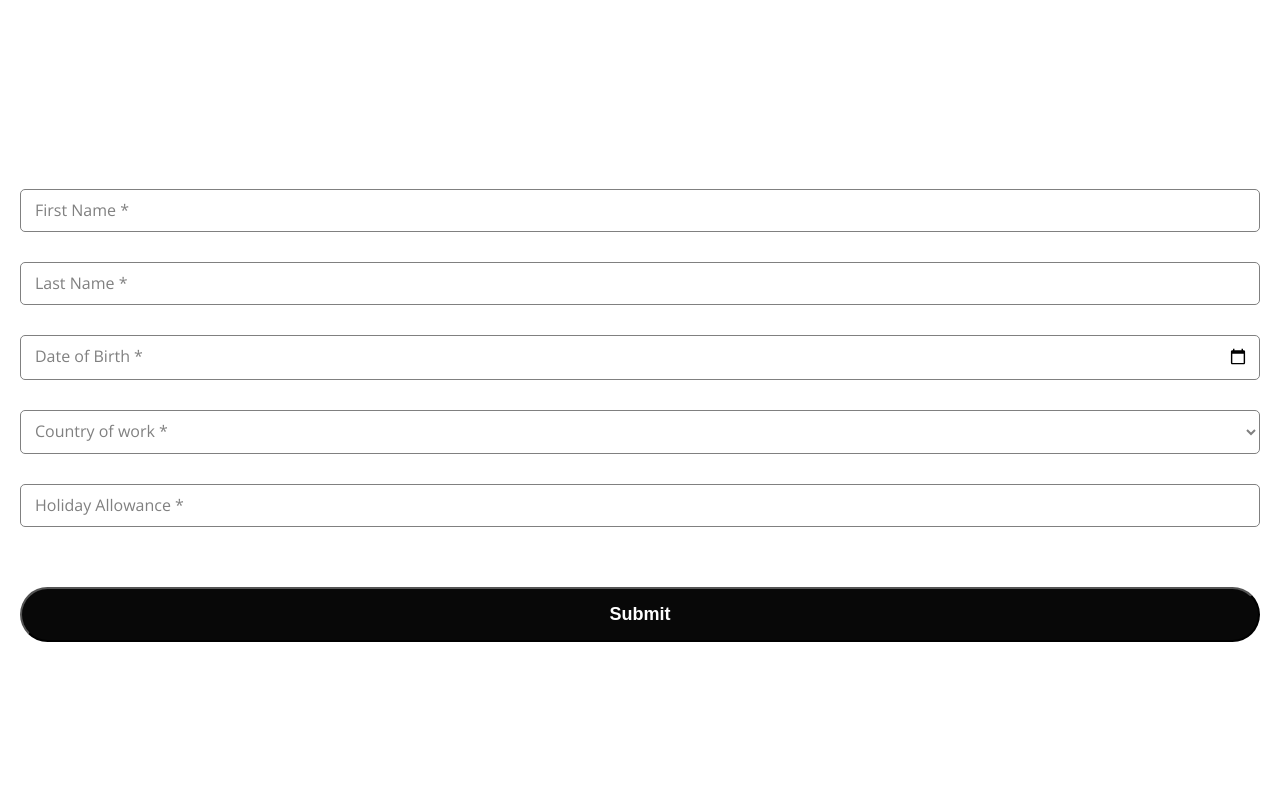
Test: <OnboardingForm /> › when country of work is brazil show 'working hours' and 'number of children'. Also validate holiday allowance
The image size is (1280, 800).
Select "Brazil" in the dropdown with test id "country_of_work" at (640,432), box top-left (20, 410), bottom-right (1260, 454)
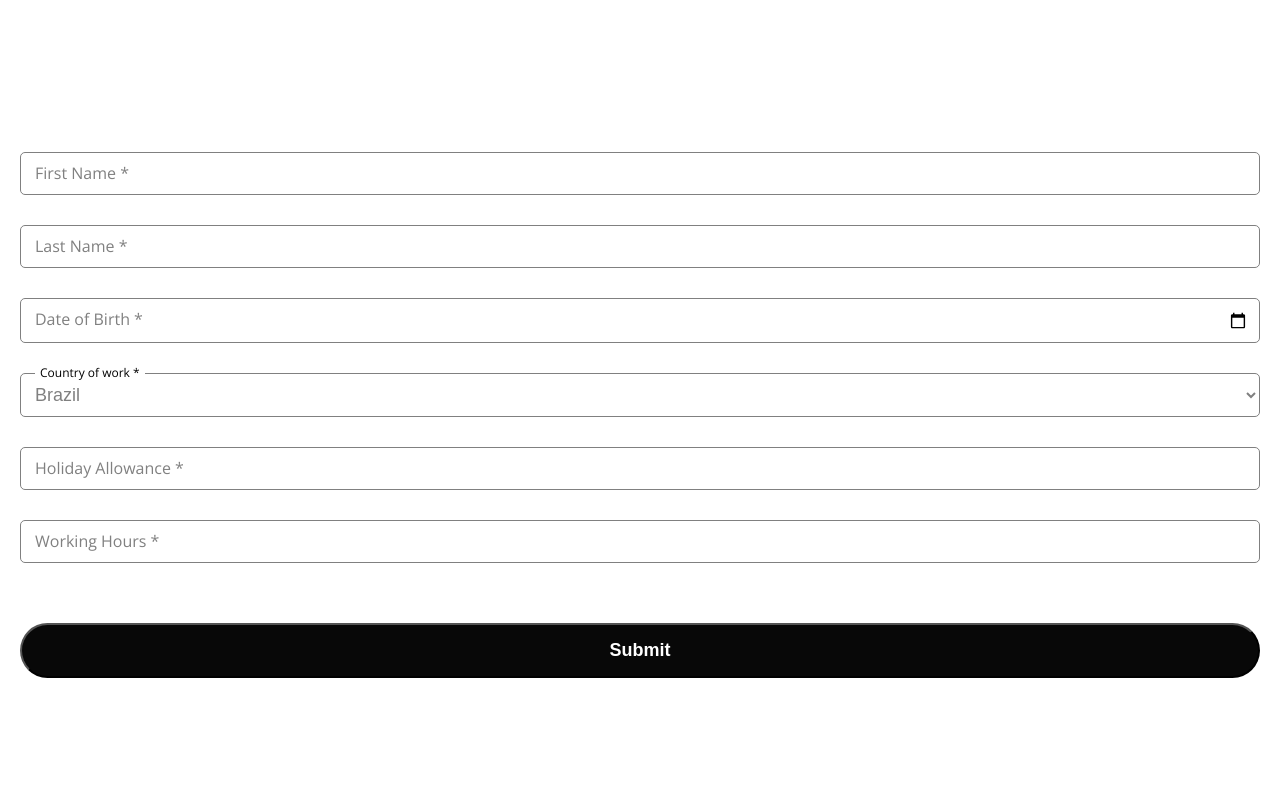
Expected: the number field with test id "working_hours" is shown, top-left (20, 520), bottom-right (1260, 563)
Note: test for when holiday allowance is greater than 40
Type "41" into the number field with test id "holiday_allowance" at (640,468), box top-left (20, 447), bottom-right (1260, 490)
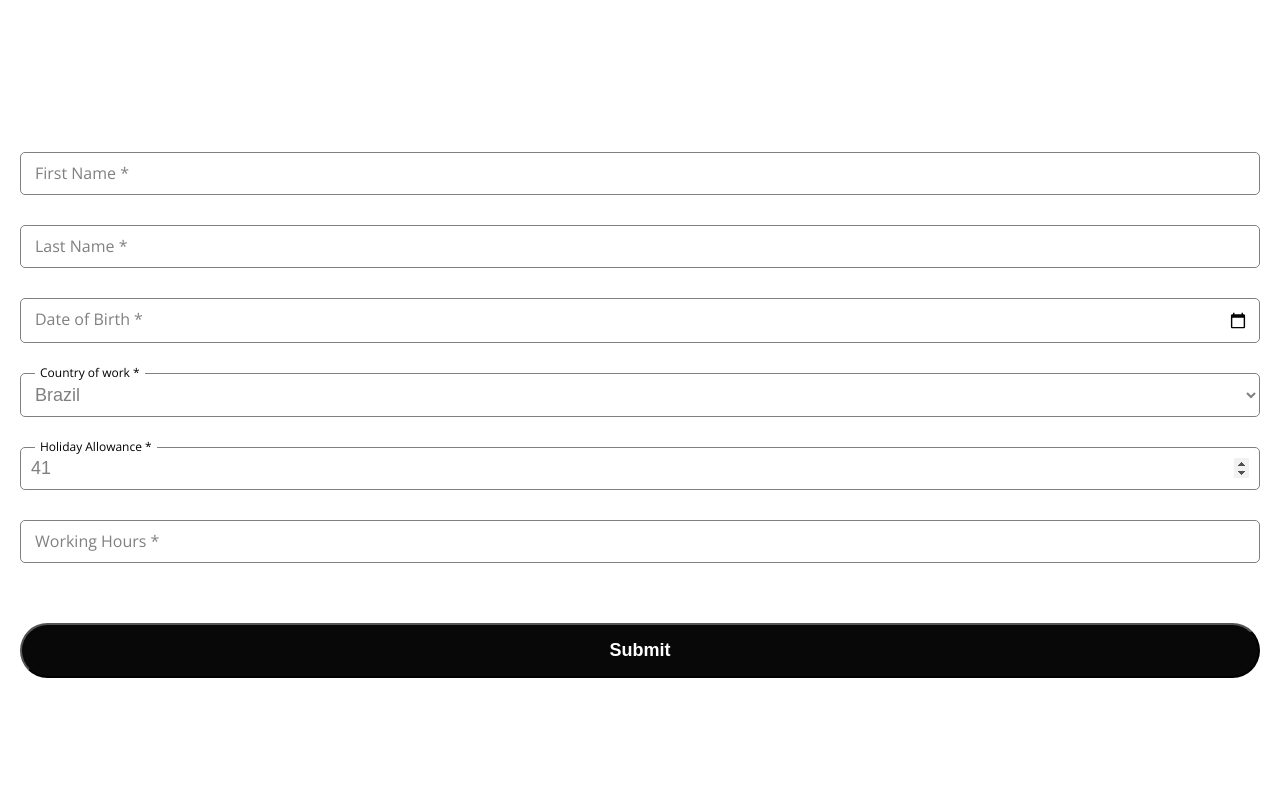
Leave the number field with test id "holiday_allowance", box top-left (20, 447), bottom-right (1260, 490)
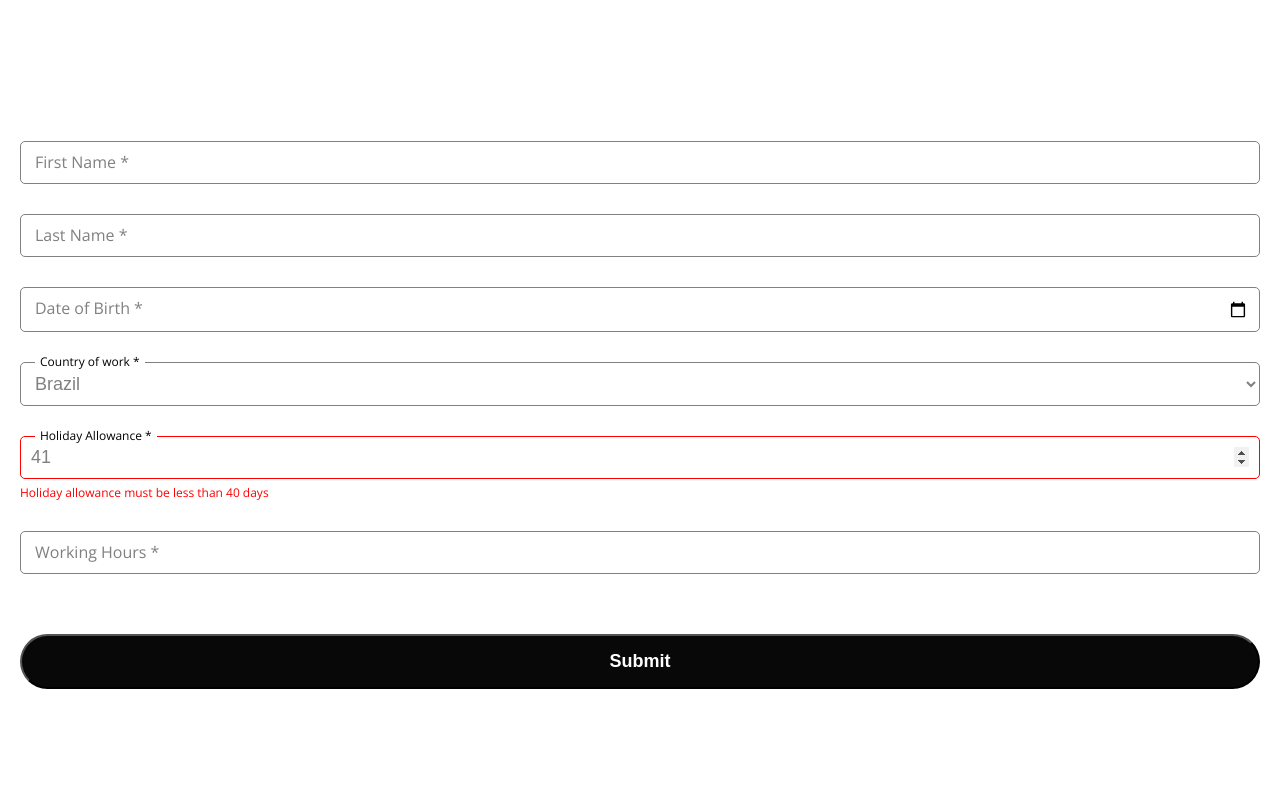
Expected: the text "Holiday allowance must be less than 40 days" is shown, top-left (20, 484), bottom-right (269, 501)
Note: test for when holiday allowance is less than 40
Replace the text in the number field with test id "holiday_allowance" with "39" at (640,458), box top-left (20, 436), bottom-right (1260, 479)
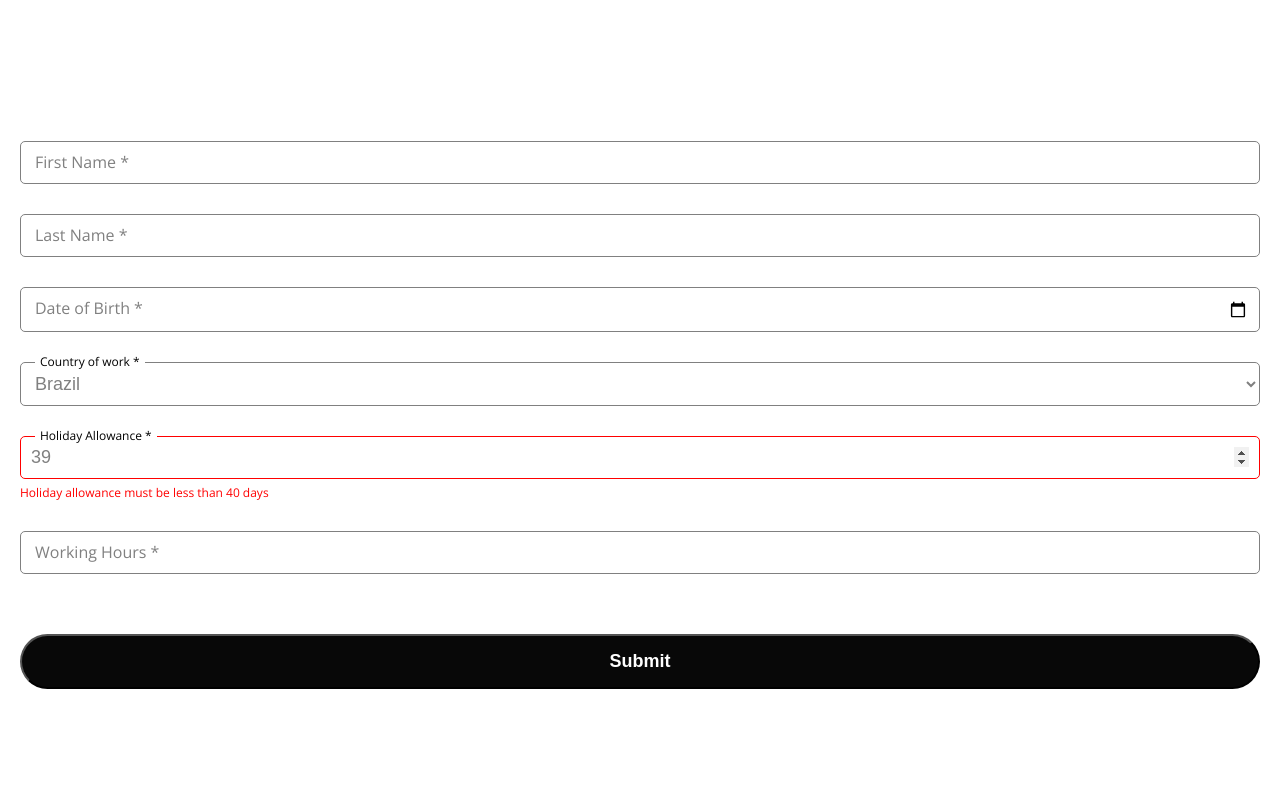
Leave the number field with test id "holiday_allowance", box top-left (20, 436), bottom-right (1260, 479)
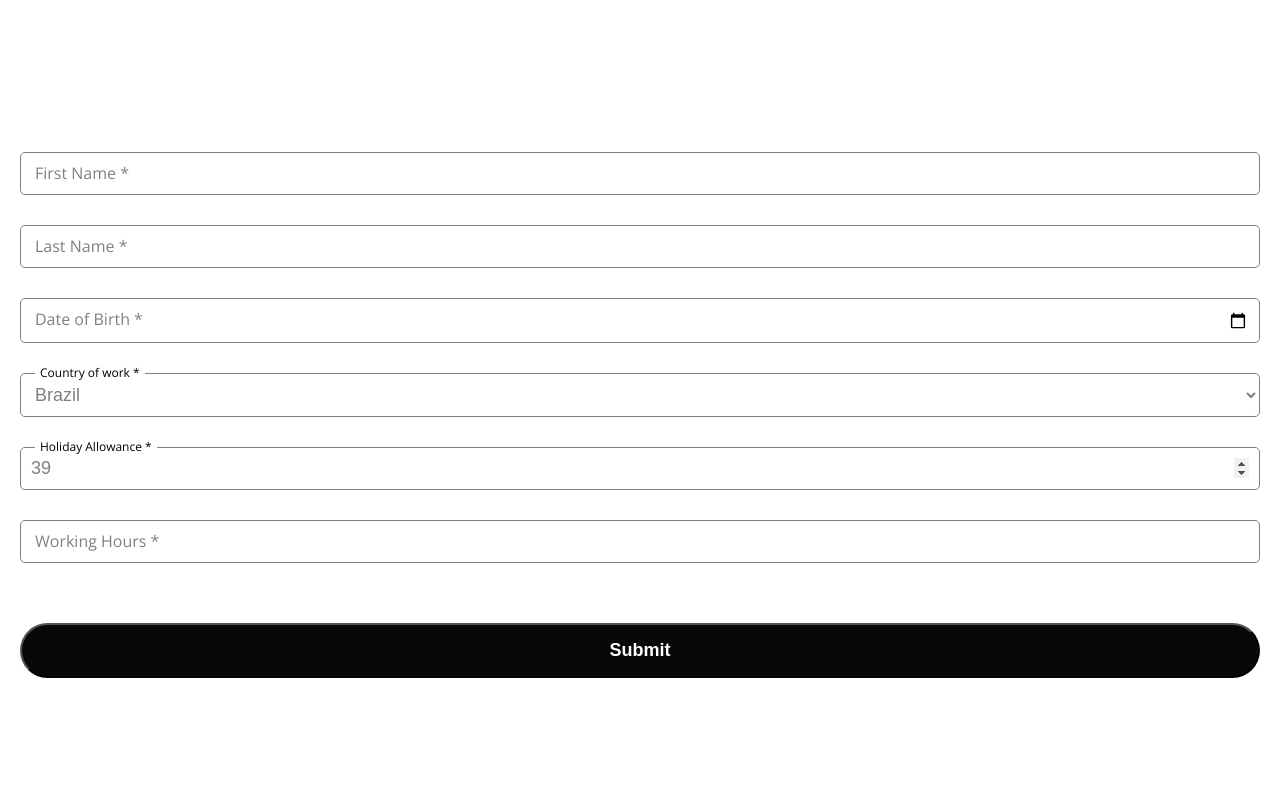
Expected: the text "Holiday allowance must be less than 40 days" is gone
